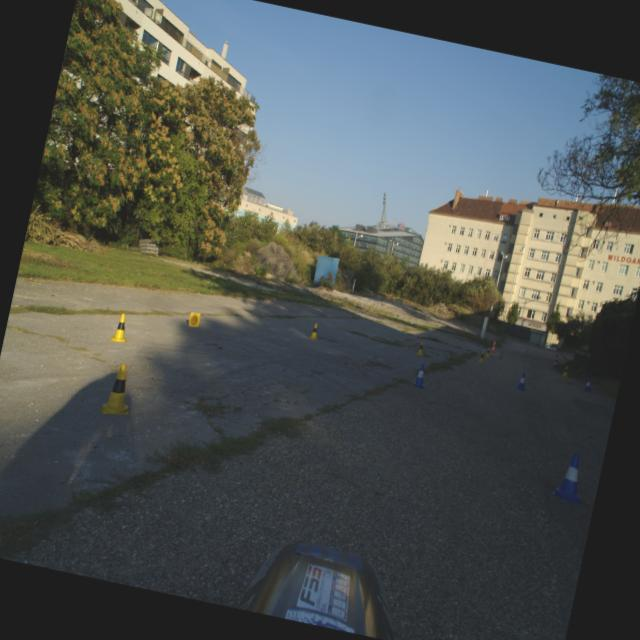blue_cone: (550, 450, 591, 505), (410, 362, 430, 388), (514, 371, 528, 390), (582, 377, 594, 392)
large_orange_cone: (550, 354, 560, 368), (490, 338, 498, 354)
yellow_cone: (100, 361, 138, 419), (110, 312, 132, 344), (308, 322, 320, 340), (188, 311, 200, 328), (415, 340, 426, 356), (477, 349, 486, 364), (560, 365, 570, 377), (484, 347, 492, 358)
